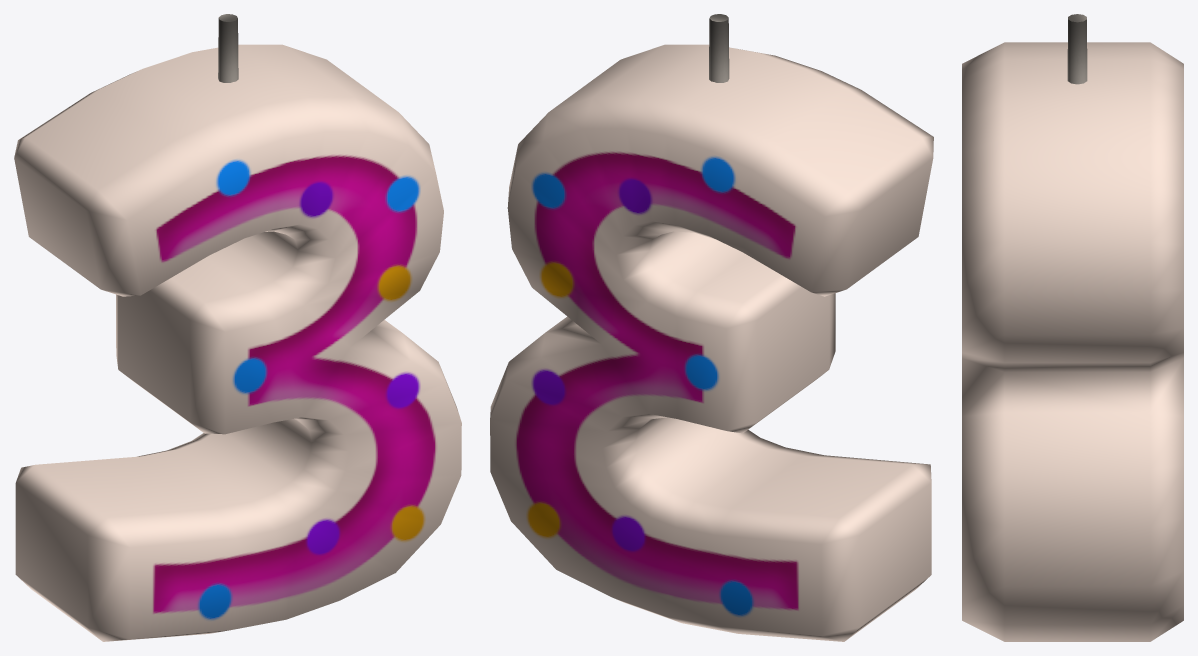
File: Candle_3.fbx
3 renders of one model, left to right at view 1: azimuth 30°, elevation 25°; view 2: azimuth 150°, elevation 25°; view 3: azimuth 270°, elevation 25°, orthographic.
Parts seen in each view (by area): view 1: Candle_3; view 2: Candle_3; view 3: Candle_3.
Boxes of the visible parts, x1=… form: Candle_3: x1=14, y1=14, x2=461, y2=641; Candle_3: x1=490, y1=14, x2=933, y2=641; Candle_3: x1=962, y1=14, x2=1183, y2=641.
Bounding box in the file's own units: 20.44 × 30.52 × 10.45.
